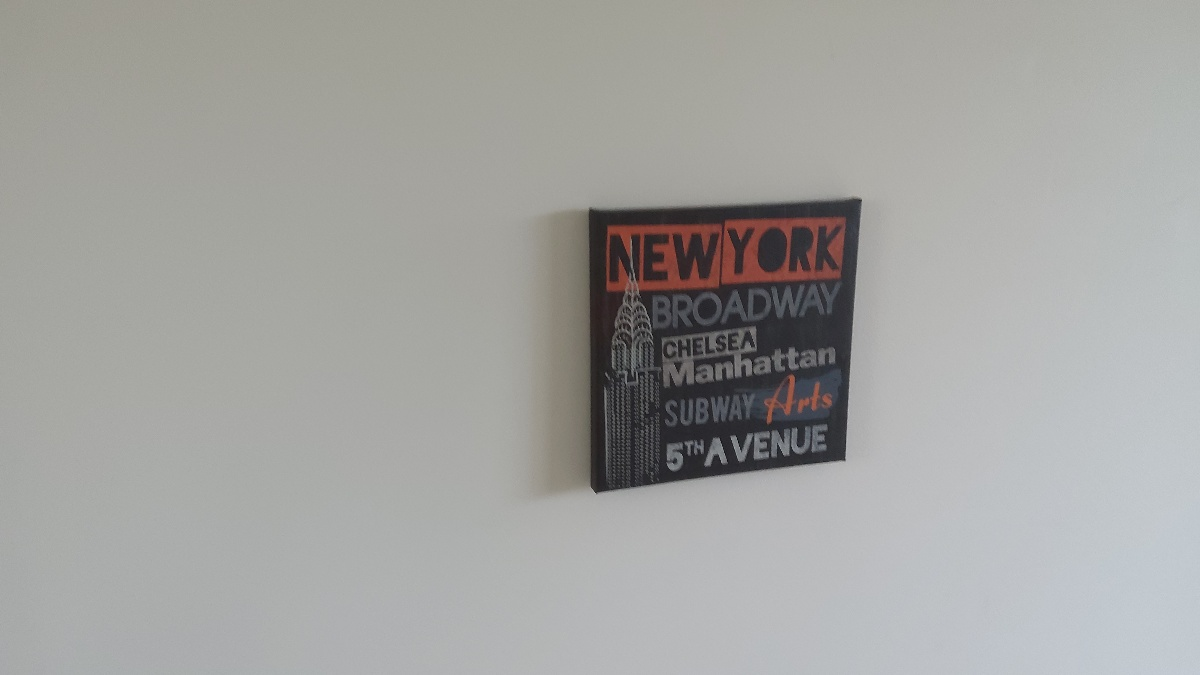poster: (580, 194, 858, 500)
